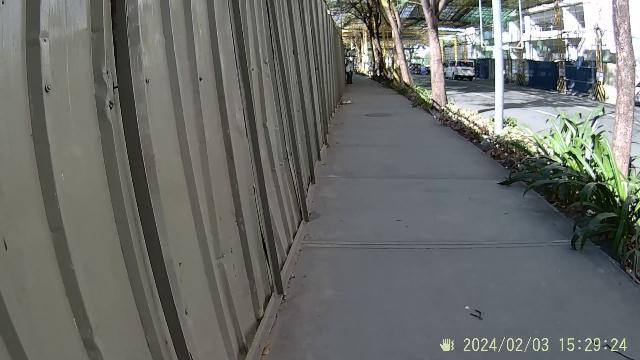tree: (602, 0, 636, 196), (418, 0, 452, 112)
